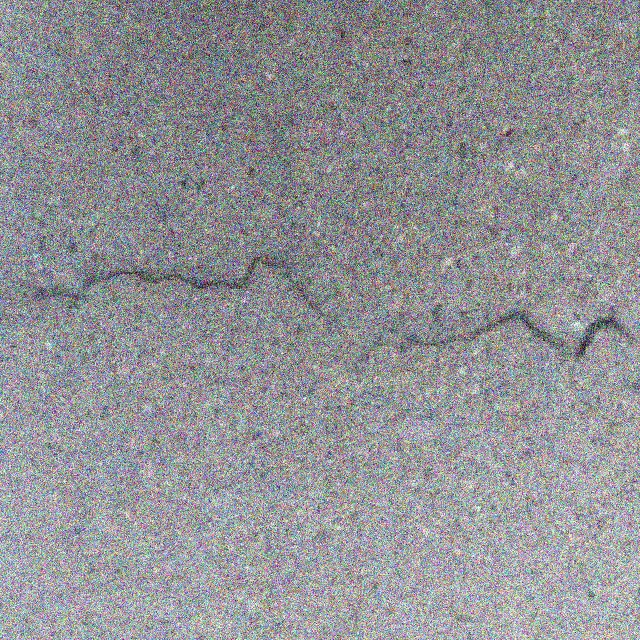SurfaceCrack: (4, 230, 640, 408)
